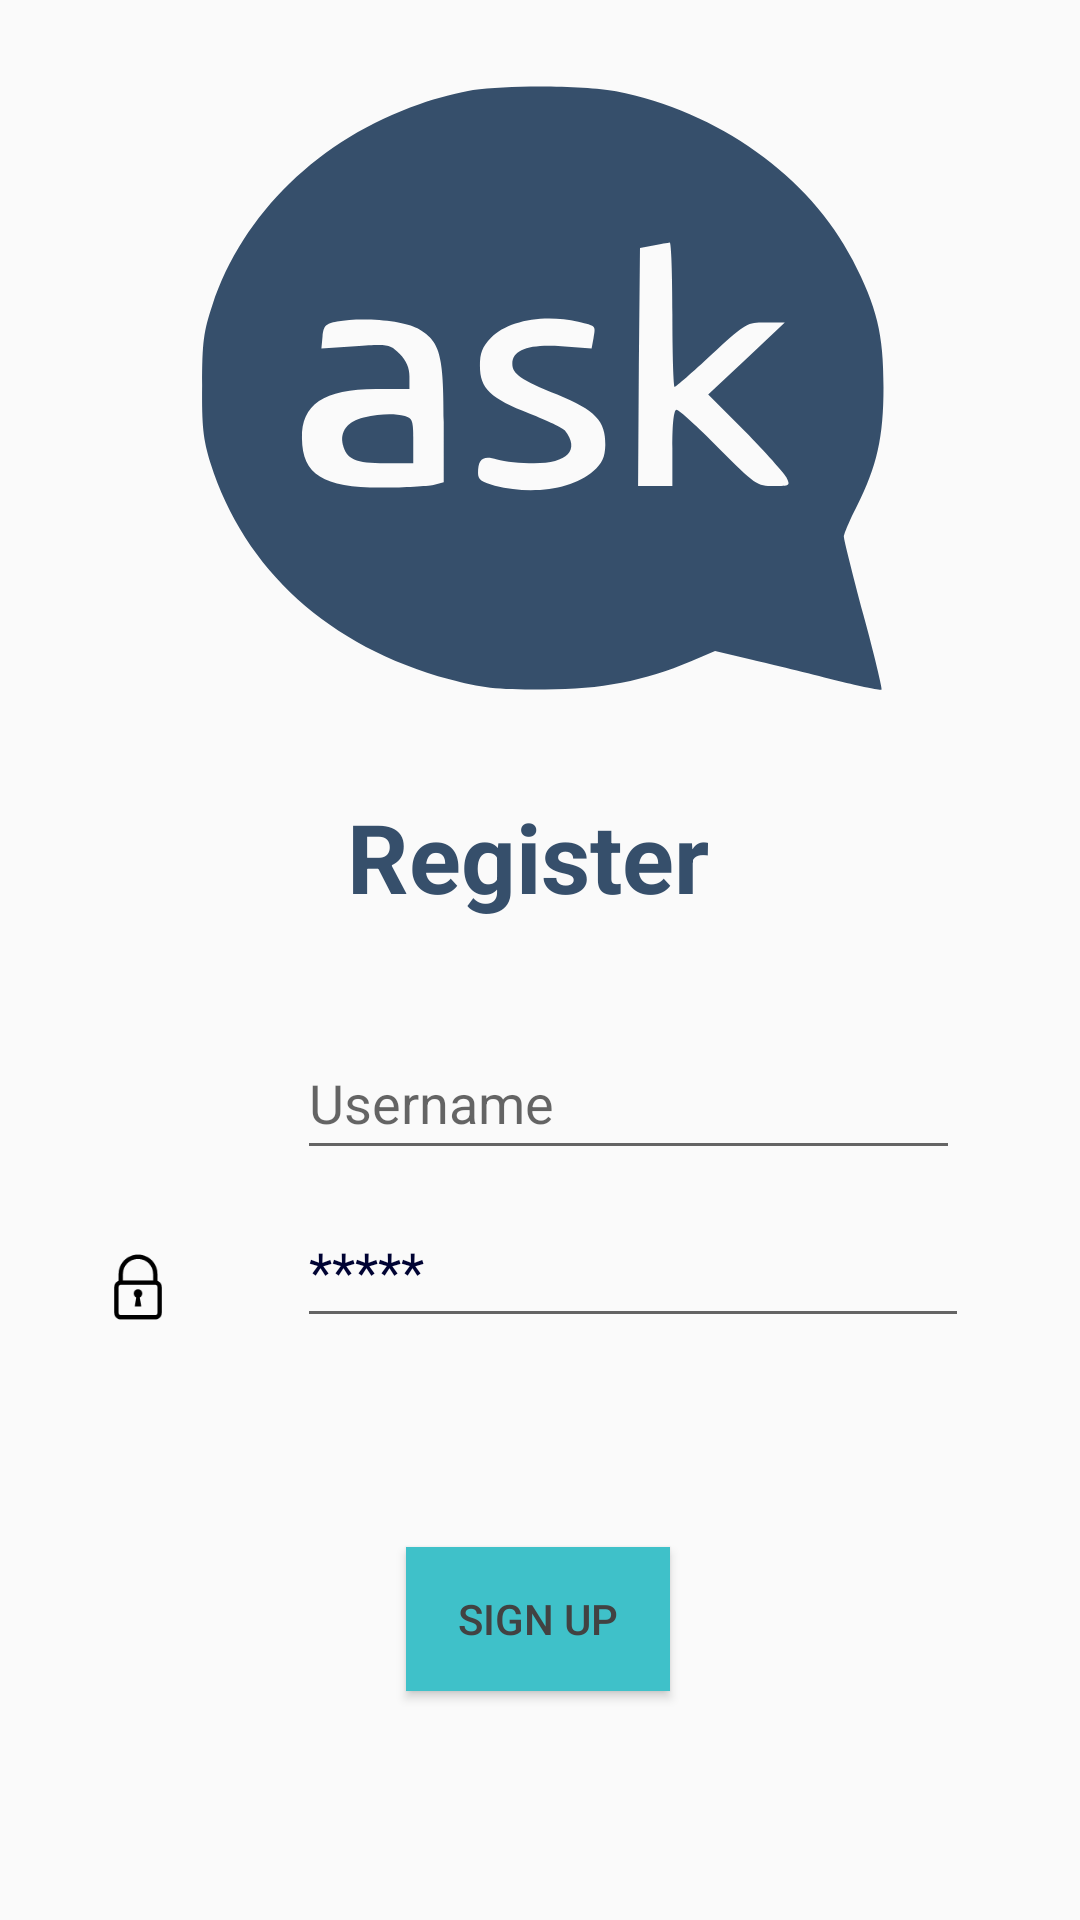

Locate icon controls on the screen. Image size 1080*1920, boxes as (x1,y1,x2,y2).
ei lock: (114,1254,162,1320)
